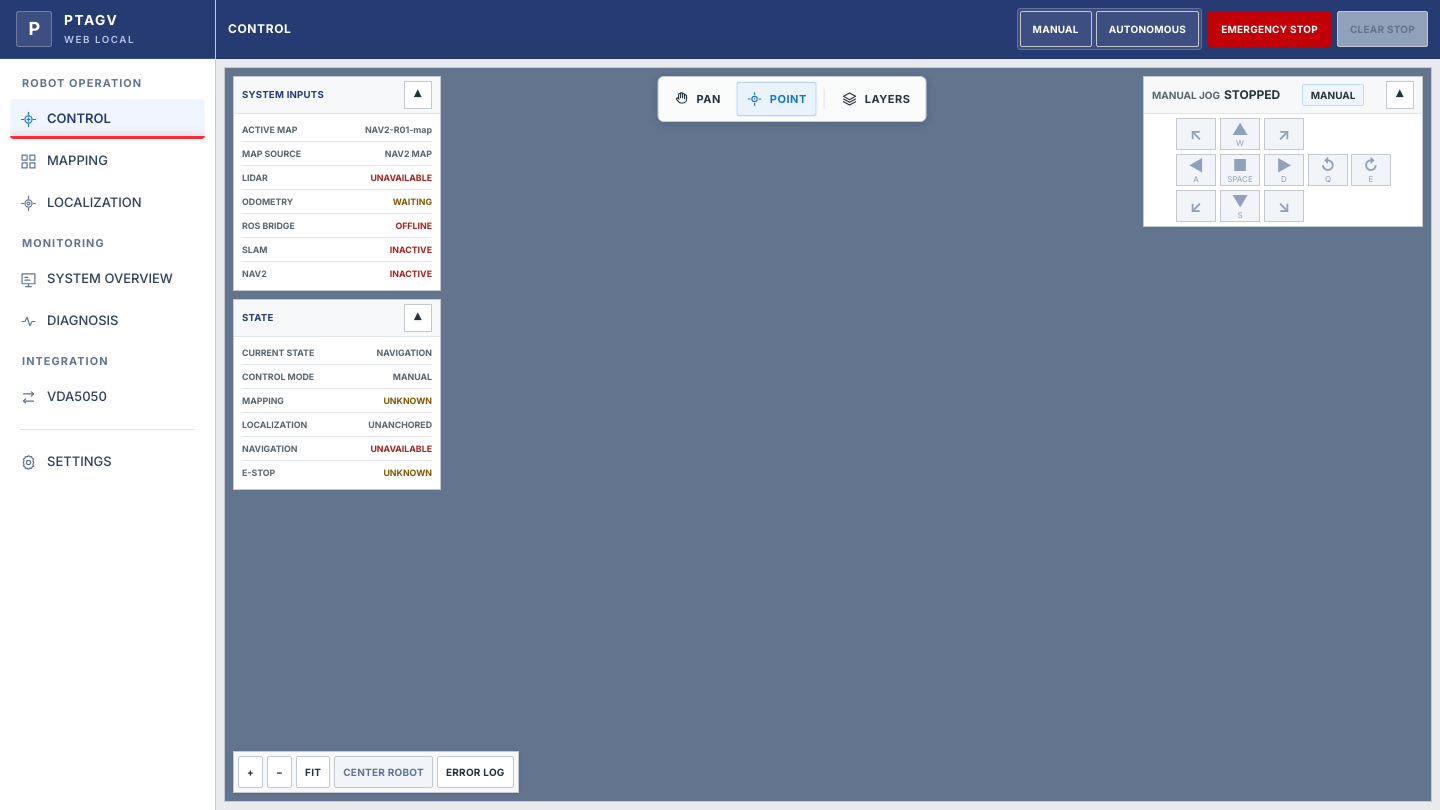
Test: robot detail route stability › shows the actual E-STOP request failure when the backend is unavailable
Click the button "EMERGENCY STOP".
click(1270, 29)  # box [1208,11,1331,47]
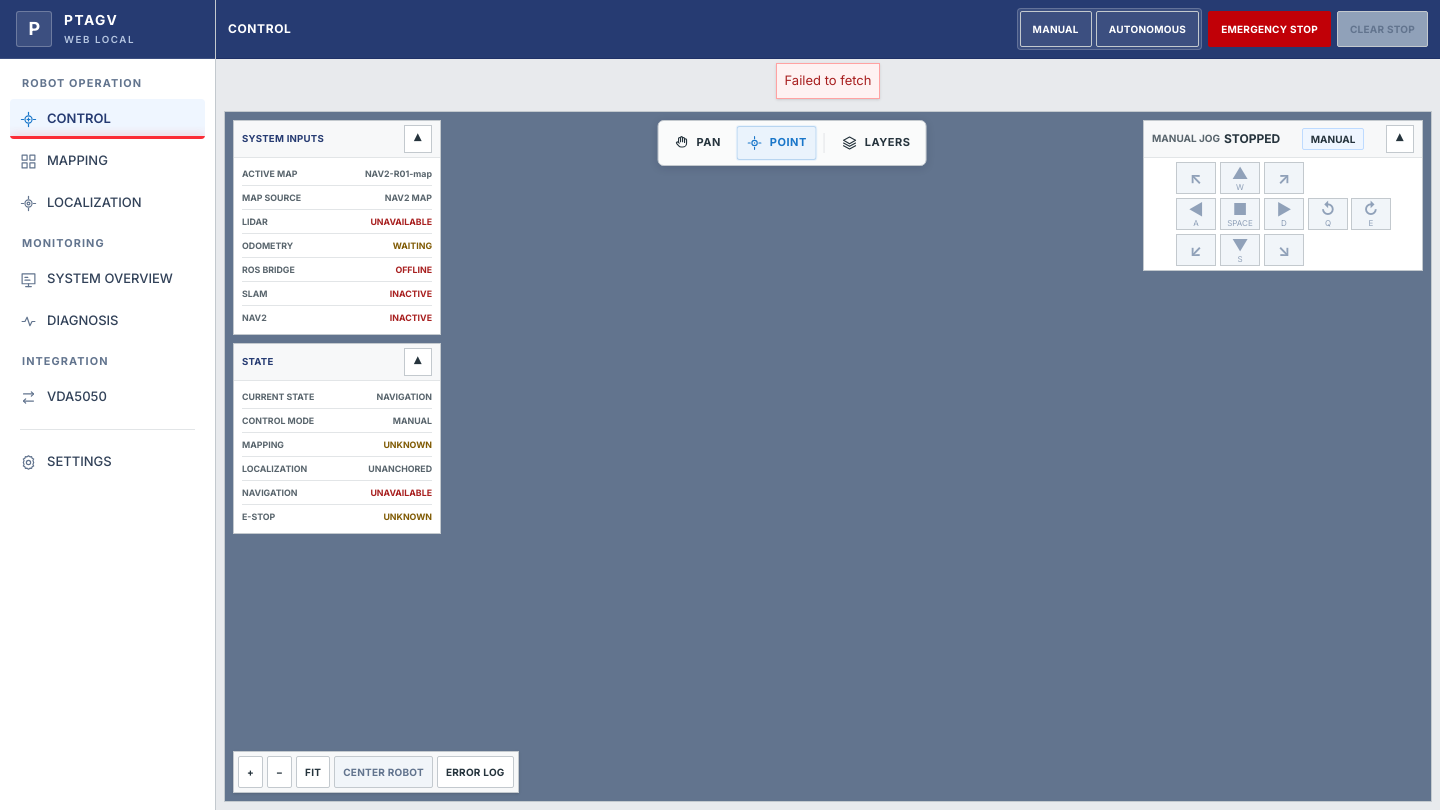
Check: the message "Failed to fetch" is shown, box [776,63,880,99]
